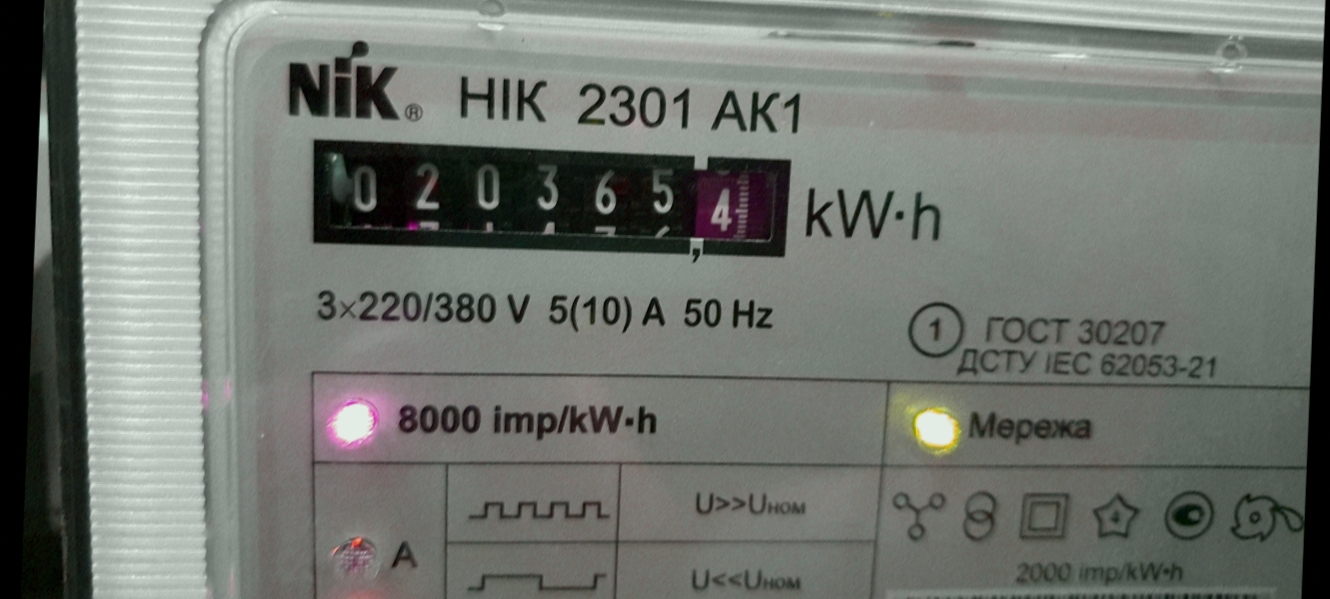0: (347, 159, 383, 215), (473, 161, 505, 212)
2: (411, 159, 444, 211)
3: (532, 162, 563, 212)
4: (708, 183, 733, 232)
5: (649, 167, 678, 214)
6: (591, 164, 619, 216)
screen: (295, 121, 808, 278)
